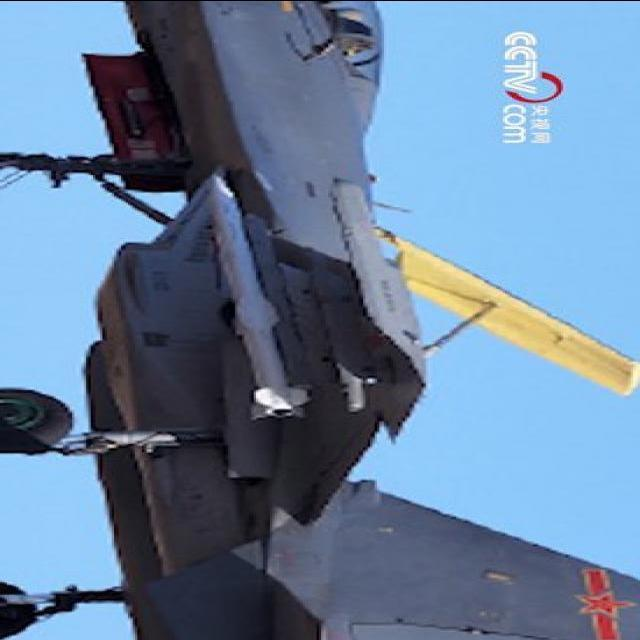missile: (203, 156, 312, 432)
